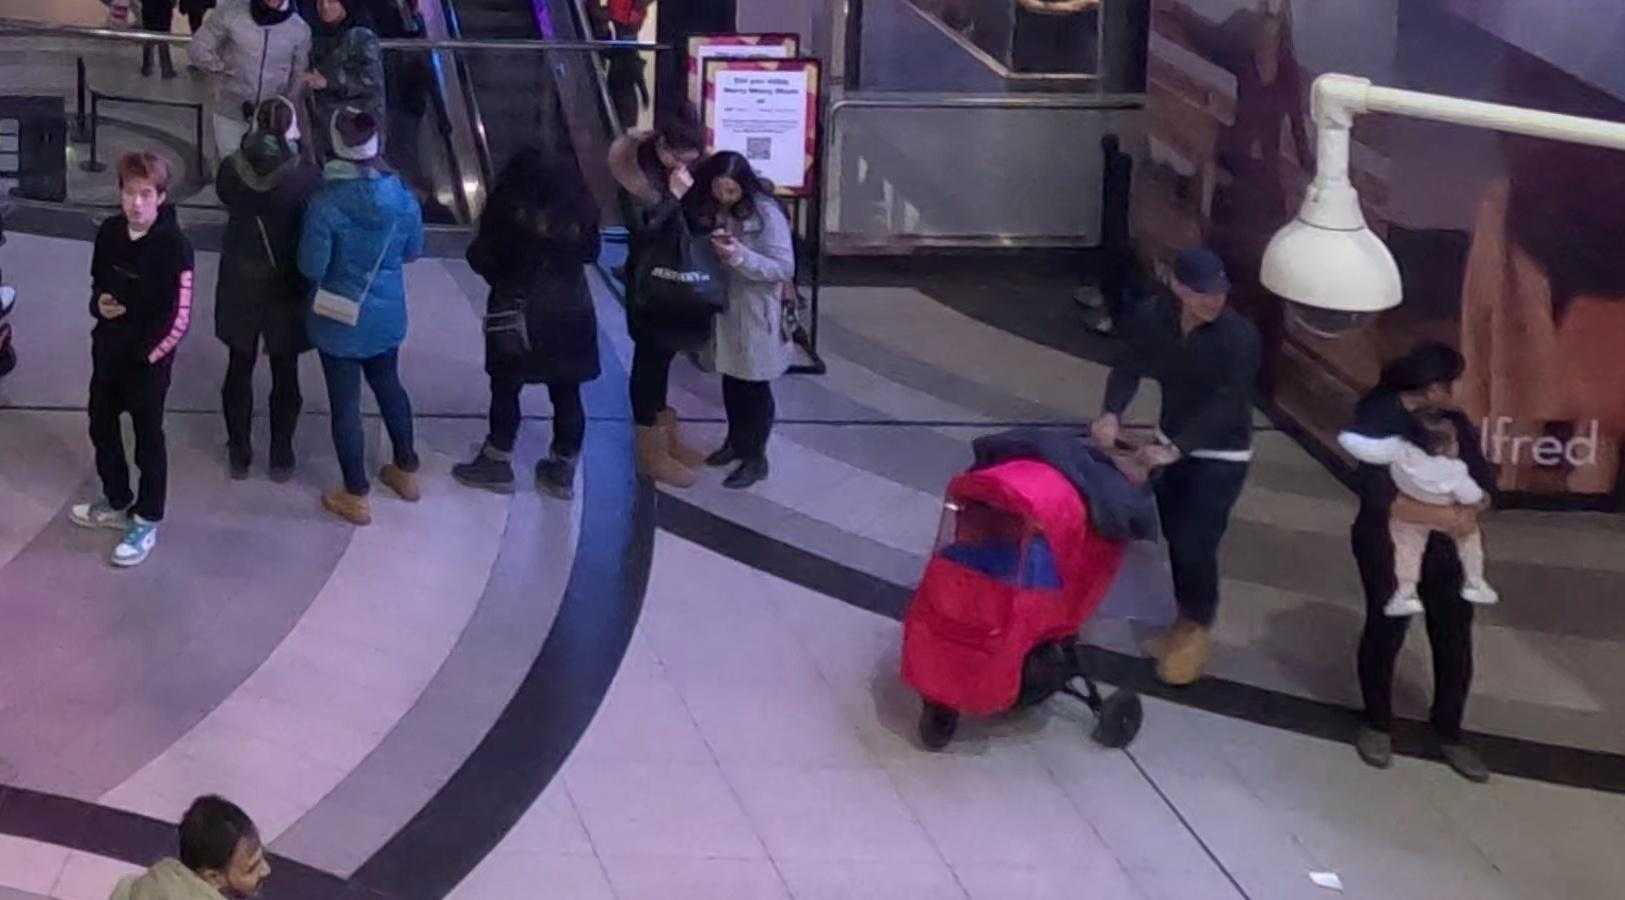person: (1358, 338, 1524, 785), (1117, 246, 1273, 701), (301, 105, 444, 529), (79, 140, 208, 553), (613, 106, 744, 501), (459, 141, 595, 508), (686, 140, 823, 497), (204, 89, 317, 489)
